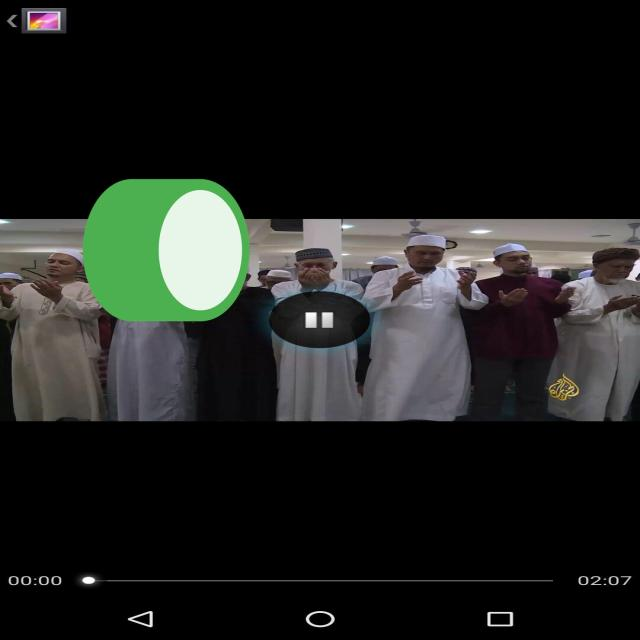social proof: (75, 124, 257, 387)
